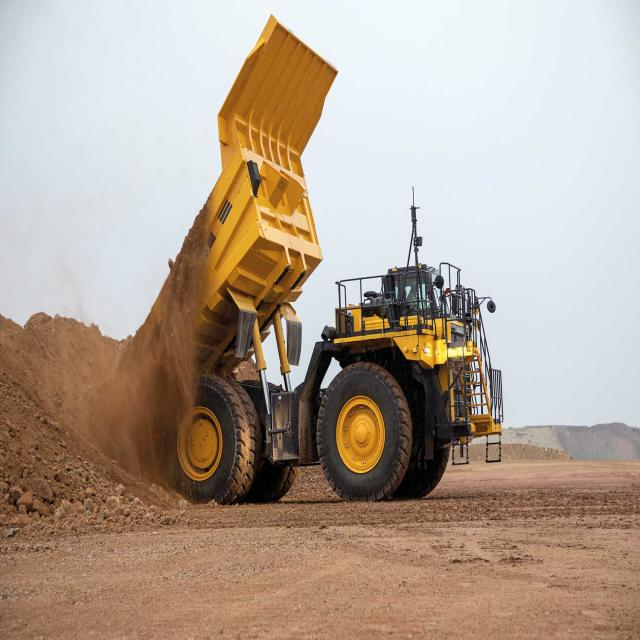dump_truck: (106, 7, 508, 515)
